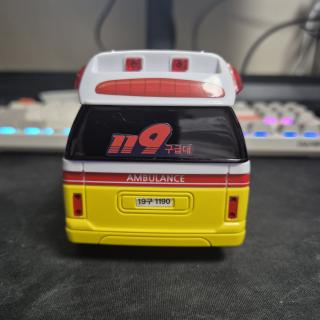Ambulance: (63, 50, 250, 246)
